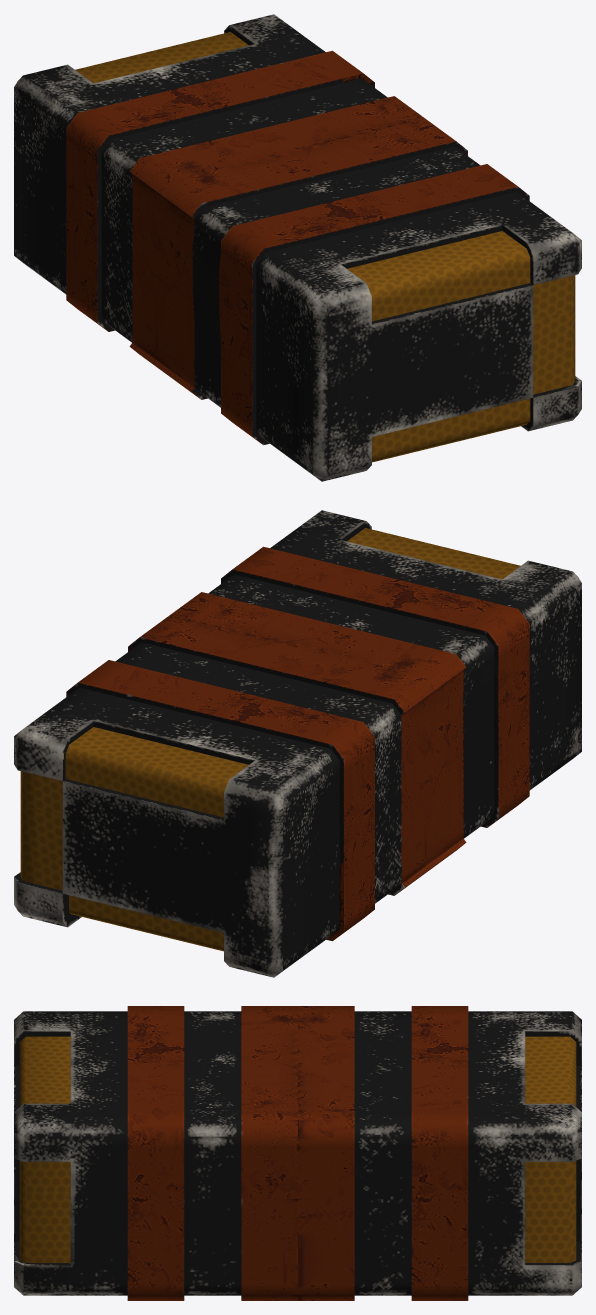
File: LCrate.fbx
3 views of the same model, one above another, from view 1: azimuth 30°, elevation 25°; view 2: azimuth 150°, elevation 25°; view 3: azimuth 270°, elevation 25° (orthographic). The views are drawn at different scales.
Parts seen in each view (by area): view 1: Box088; view 2: Box088; view 3: Box088.
Boxes of the visible parts, left/top/right/bottom form: Box088: left=14, top=14, right=581, bottom=481; Box088: left=14, top=510, right=581, bottom=977; Box088: left=14, top=1006, right=581, bottom=1300.
Size of the model in its own units: 281 by 189 by 539.
1 material, 1 textured.
